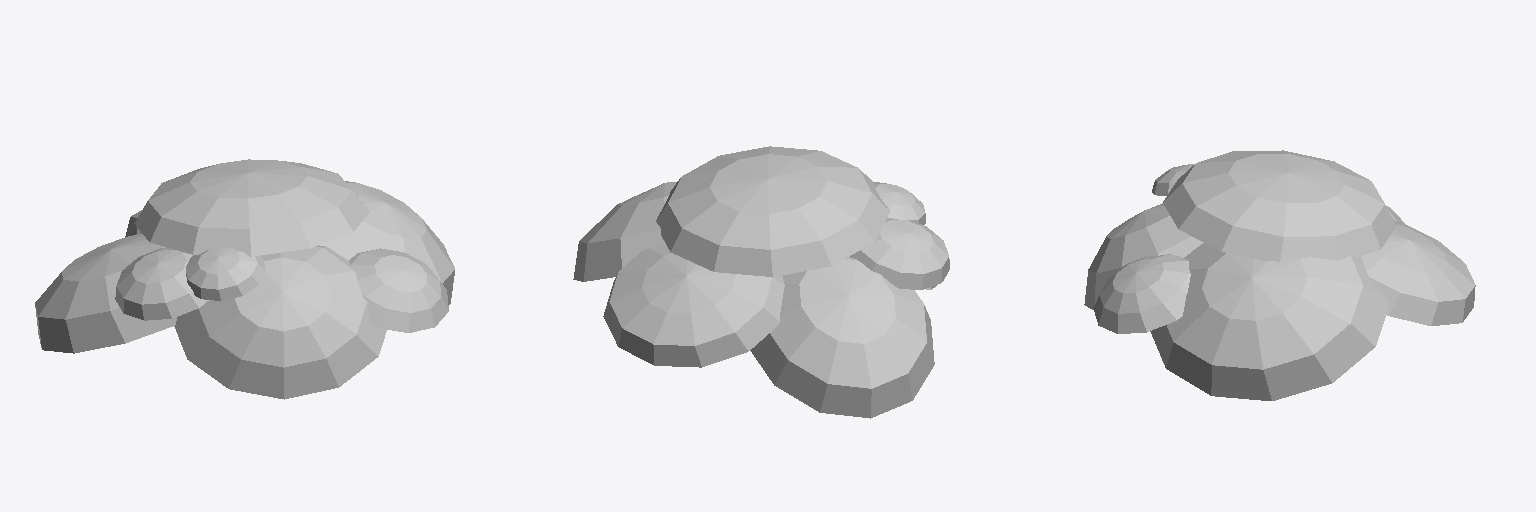
The model's file is BuissonSimple.obj.
3 views of the same model, side by side, from view 1: azimuth 30°, elevation 25°; view 2: azimuth 150°, elevation 25°; view 3: azimuth 270°, elevation 25° (orthographic).
Visible parts, largest first — view 1: BuissonSimple; view 2: BuissonSimple; view 3: BuissonSimple.
Boxes of the visible parts, x1,y1,x2,y2 form: BuissonSimple: [35, 159, 454, 399]; BuissonSimple: [573, 146, 949, 418]; BuissonSimple: [1084, 150, 1475, 400].
Size of the model in its own units: 53.25 by 23.09 by 50.3.